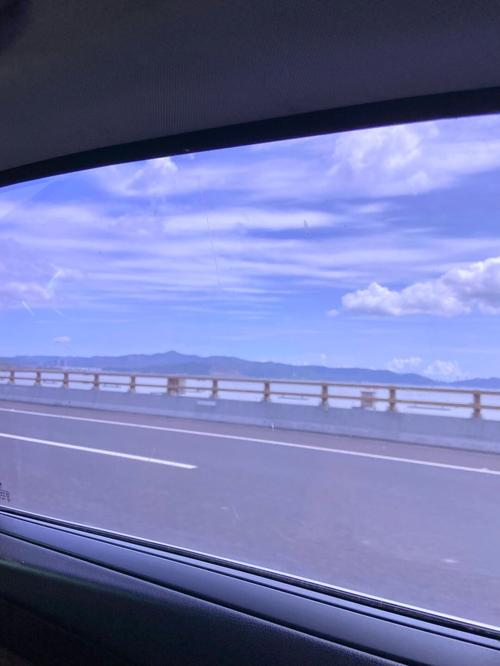sky_cloud: (20, 366, 499, 613), (24, 115, 484, 345)
